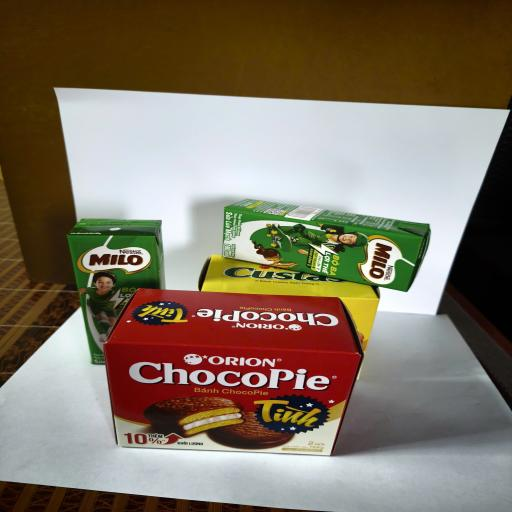chocopie: (108, 285, 368, 453)
custas: (196, 254, 376, 335)
milo: (116, 294, 340, 459), (222, 199, 431, 292), (66, 218, 166, 364)
